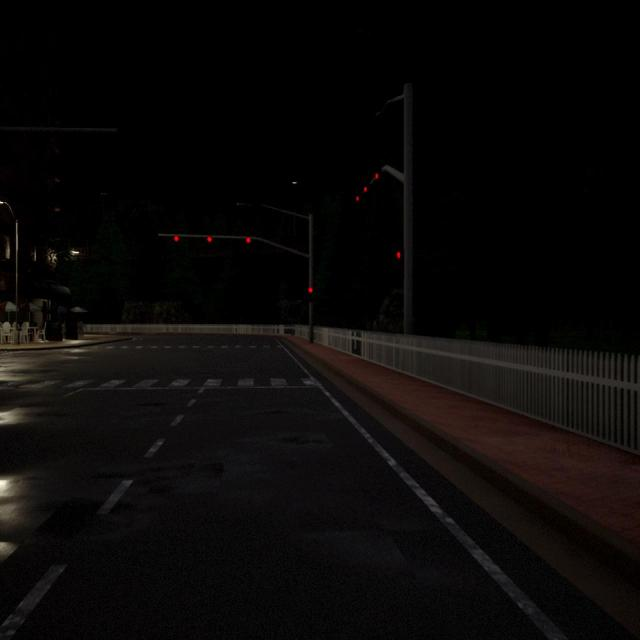traffic_light: (308, 287, 313, 302), (374, 172, 379, 180), (396, 251, 401, 259), (246, 236, 251, 244), (206, 236, 212, 242), (363, 186, 368, 193), (174, 236, 179, 242), (356, 196, 360, 201)
